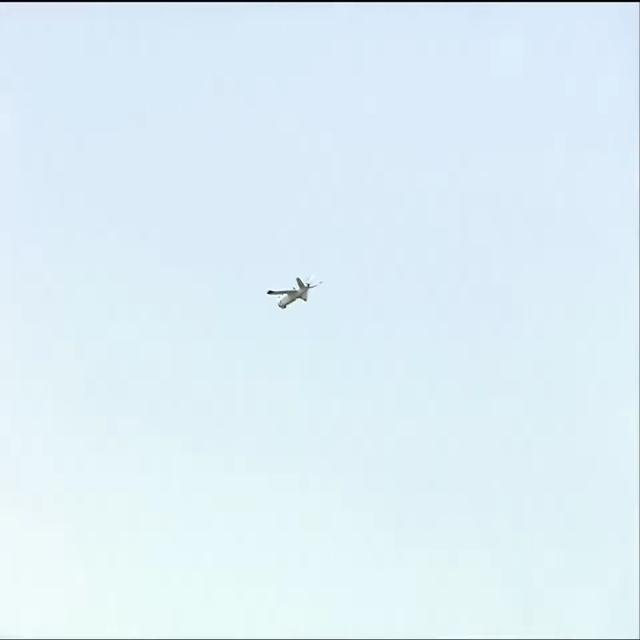iha: (266, 273, 324, 312)
